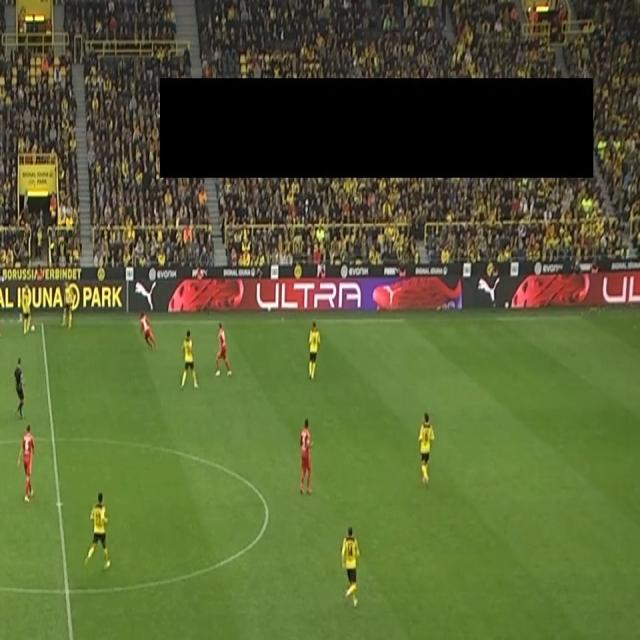ball: (30, 323, 36, 333)
